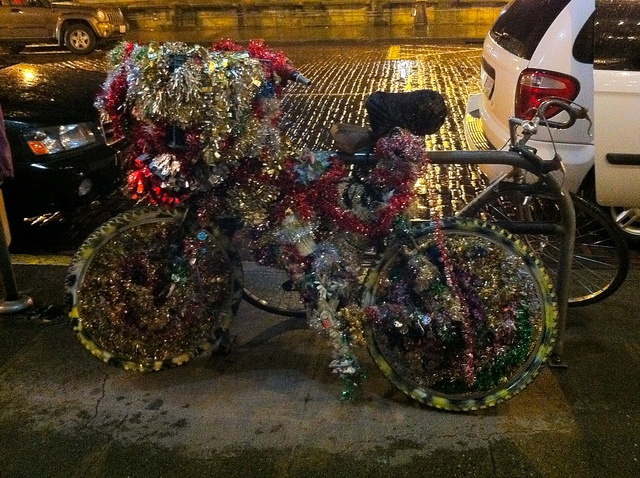non-vehicle: (67, 40, 563, 418), (241, 89, 635, 318)
